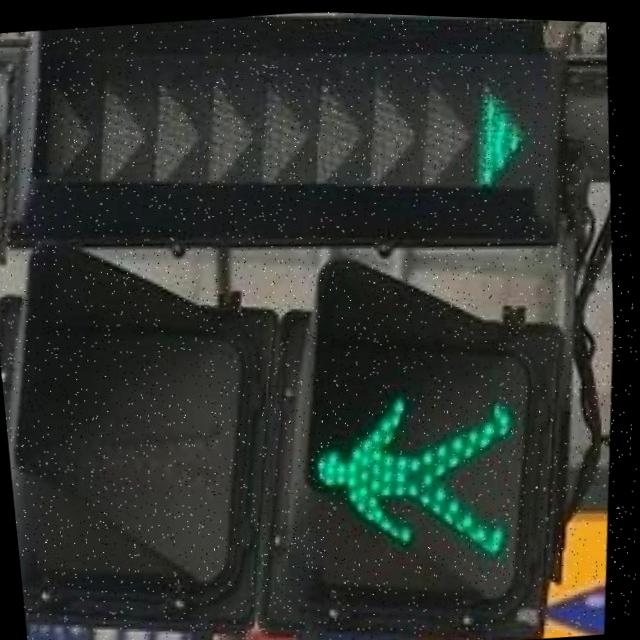green_light: (300, 361, 546, 576)
